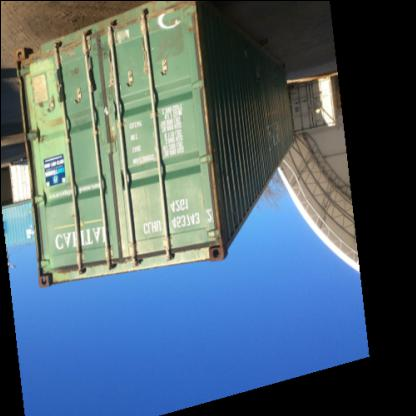Damage: (150, 26, 184, 64), (86, 31, 108, 70), (102, 31, 136, 51), (135, 51, 155, 73), (62, 64, 82, 82)
